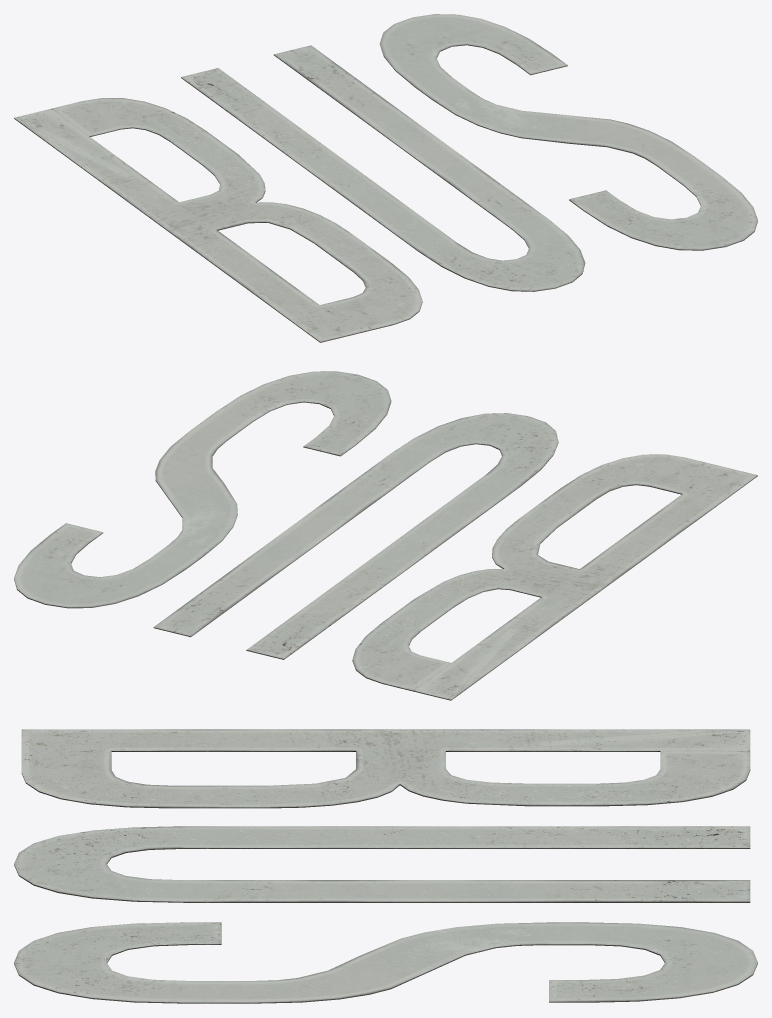
The model's file is bus_stop_street_lettering.fbx.
3 renders of one model, top to bottom at view 1: azimuth 30°, elevation 25°; view 2: azimuth 150°, elevation 25°; view 3: azimuth 270°, elevation 25°, orthographic. The views are drawn at different scales.
Visible parts, largest first — view 1: Mesh2_Group3_Group1_Model; view 2: Mesh2_Group3_Group1_Model; view 3: Mesh2_Group3_Group1_Model.
Part boxes in pixels (x1,y1,x2,y2): Mesh2_Group3_Group1_Model: (14,14,757,342); Mesh2_Group3_Group1_Model: (14,371,757,700); Mesh2_Group3_Group1_Model: (14,729,757,1003).
Size of the model in its own units: 201 by 0.36 by 231.
1 material, 1 textured.
